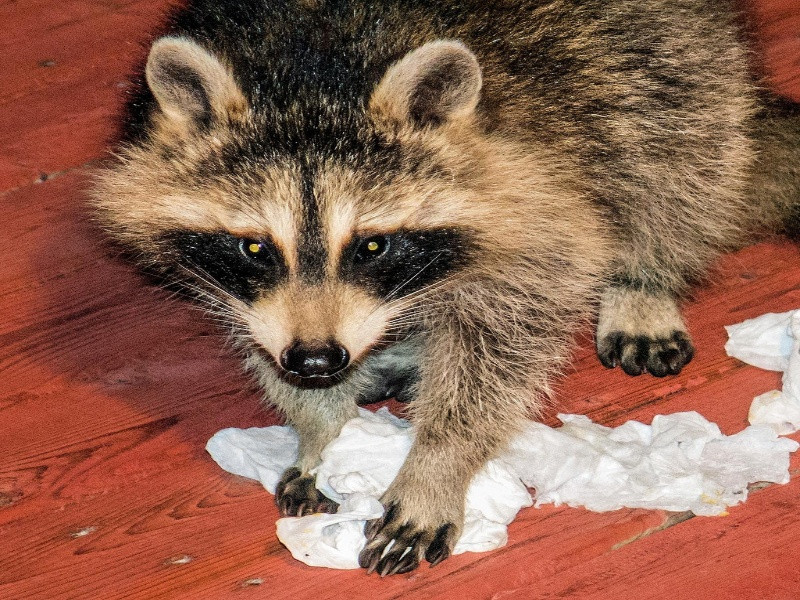raccoon: (82, 3, 797, 574)
